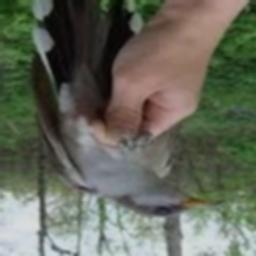Cuckoo: (30, 0, 223, 218)
